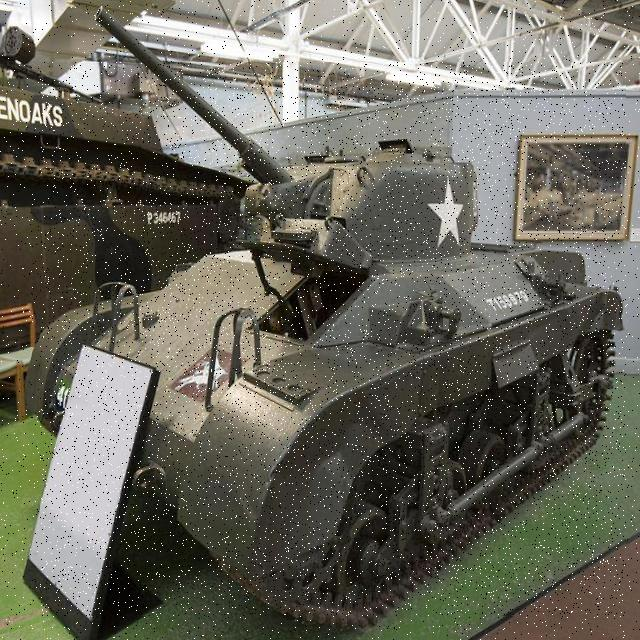MIL_MBT: (41, 63, 626, 616)
